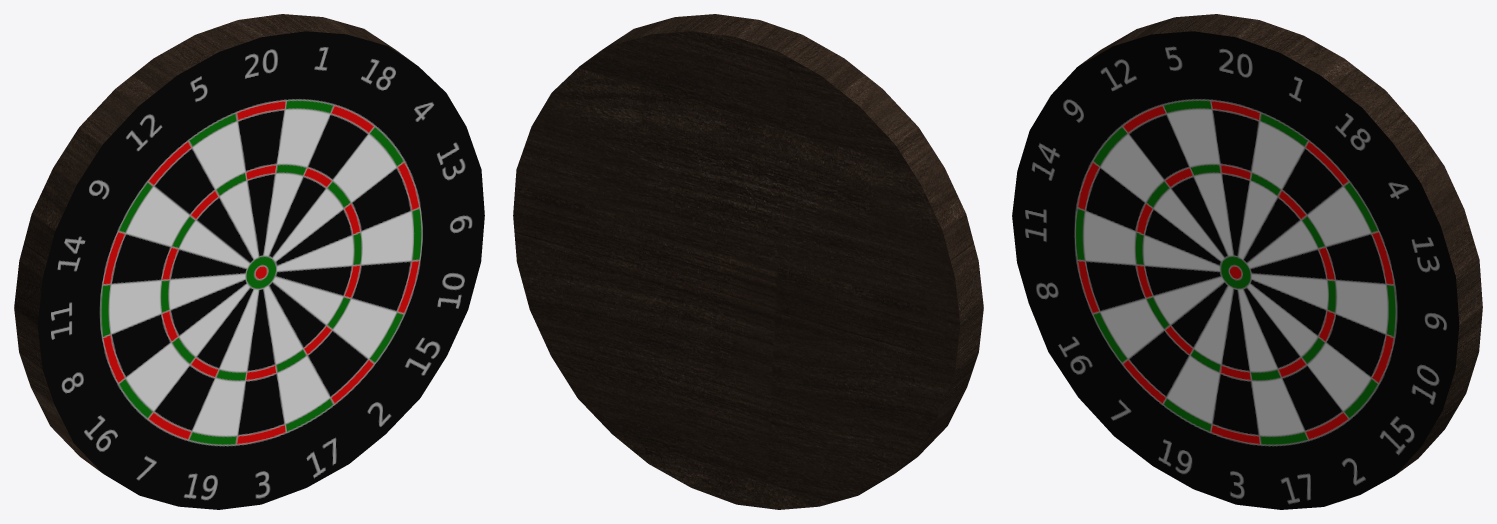
File: Dartboard.fbx
3 views of the same model, side by side, from view 1: azimuth 30°, elevation 25°; view 2: azimuth 150°, elevation 25°; view 3: azimuth 330°, elevation 25° (orthographic).
Visible parts, largest first — view 1: Board; view 2: Board; view 3: Board.
Part boxes in pixels (left/top/right/bottom): Board: left=14, top=14, right=484, bottom=509; Board: left=513, top=14, right=983, bottom=509; Board: left=1012, top=14, right=1482, bottom=509.
Bounding box in the file's own units: 281 × 25.64 × 281.
